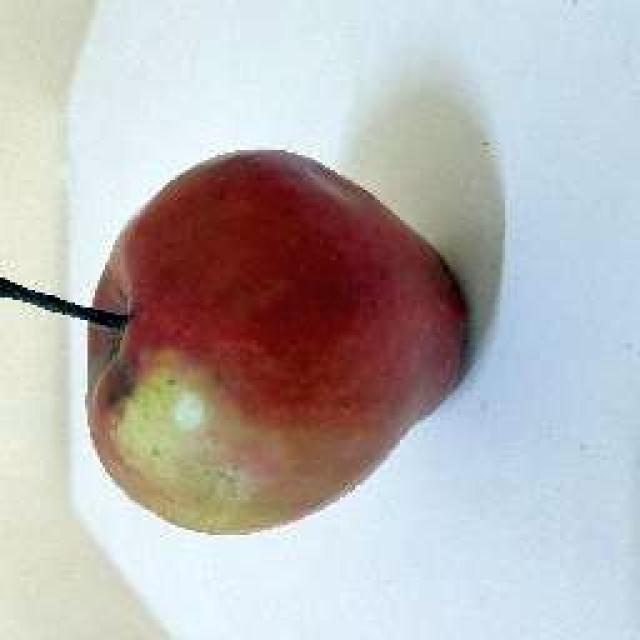Good_Apple: (85, 150, 470, 538)
